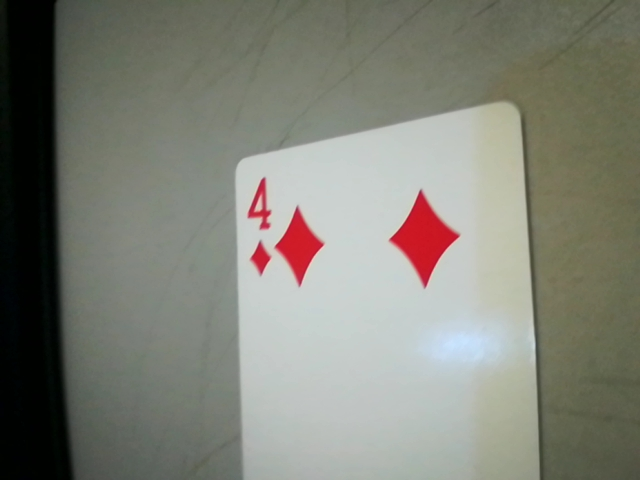fk 4: (232, 168, 282, 285)
